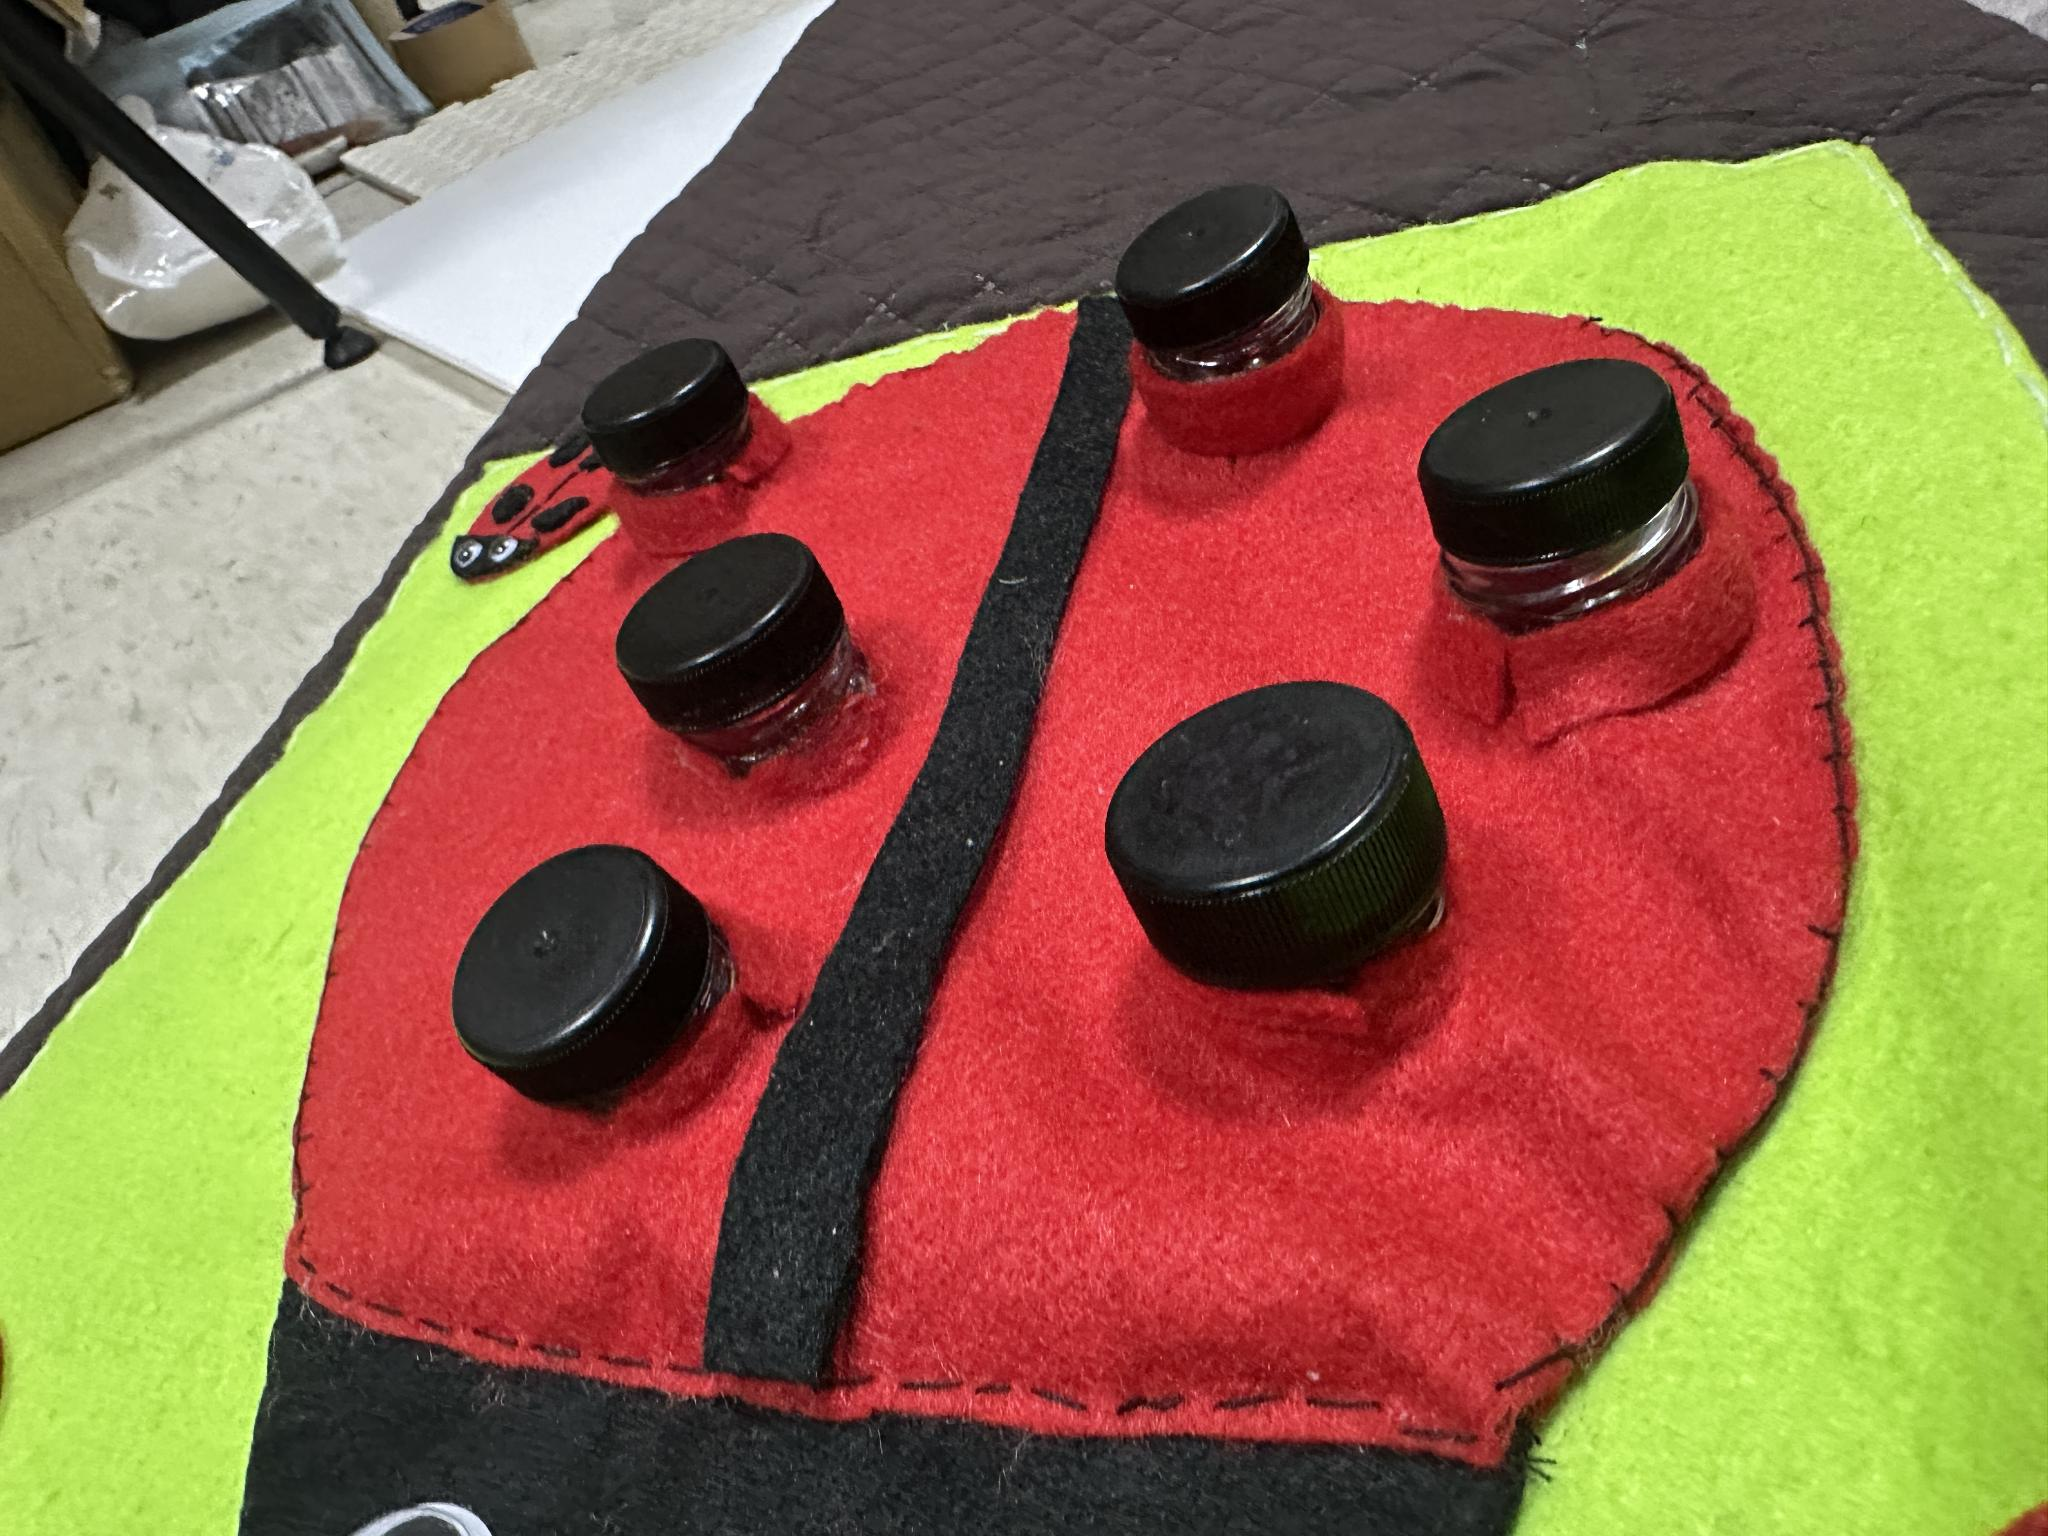cap_ng: (1392, 332, 1751, 686), (603, 537, 911, 800), (1101, 174, 1356, 474), (574, 336, 801, 537)
cap_ok: (1064, 649, 1490, 1112), (390, 829, 769, 1163)
